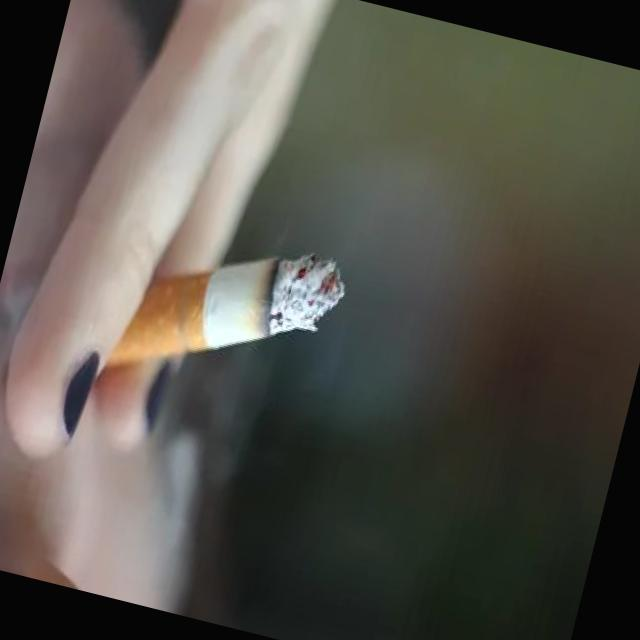smoke: (93, 198, 360, 428)
